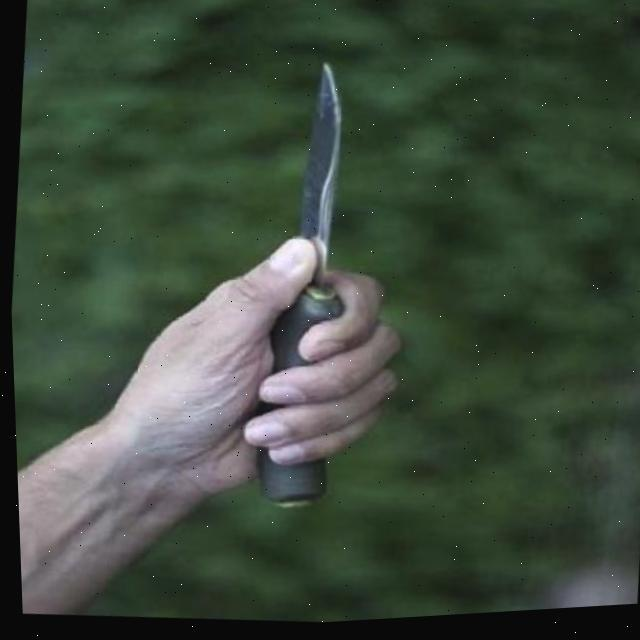knife: (238, 62, 358, 514)
